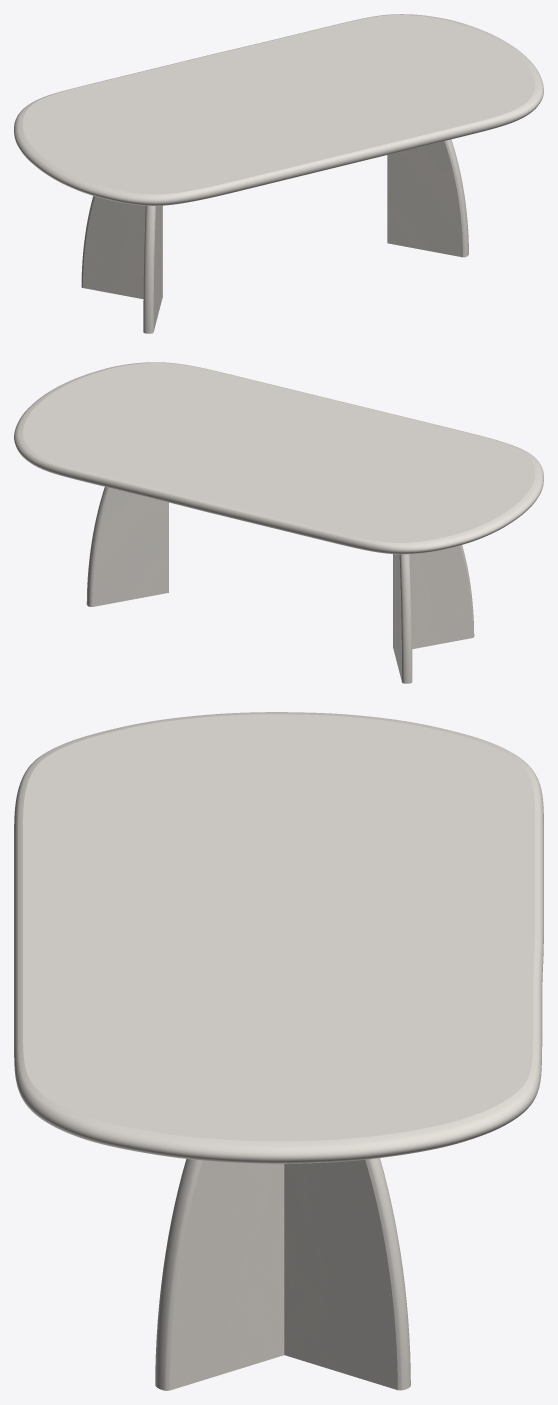
Rendered from pearlwhite_oval_round_newtable2.glb.
3 renders of one model, top to bottom at view 1: azimuth 30°, elevation 25°; view 2: azimuth 150°, elevation 25°; view 3: azimuth 270°, elevation 25°, orthographic. The views are drawn at different scales.
Visible parts, largest first — view 1: round_oval, newtable2_singleright2, newtable2_singleleft1, newtable2_singleright1; view 2: round_oval, newtable2_singleleft2, newtable2_singleright1, newtable2_singleleft1; view 3: round_oval, newtable2_singleright2, newtable2_singleleft2.
Part boxes in pixels (left/top/right/bottom): round_oval: left=14, top=14, right=543, bottom=205; newtable2_singleright2: left=387, top=139, right=468, bottom=257; newtable2_singleleft1: left=81, top=196, right=162, bottom=299; newtable2_singleright1: left=143, top=205, right=162, bottom=333; round_oval: left=14, top=362, right=543, bottom=554; newtable2_singleleft2: left=86, top=487, right=167, bottom=606; newtable2_singleright1: left=393, top=545, right=474, bottom=649; newtable2_singleleft1: left=393, top=554, right=412, bottom=683; round_oval: left=14, top=712, right=543, bottom=1163; newtable2_singleright2: left=155, top=1159, right=284, bottom=1390; newtable2_singleleft2: left=284, top=1158, right=410, bottom=1390.
Bounding box in the file's own units: 7.5 × 2.49 × 3.8.
Materials: 1 (1 with a texture image).
